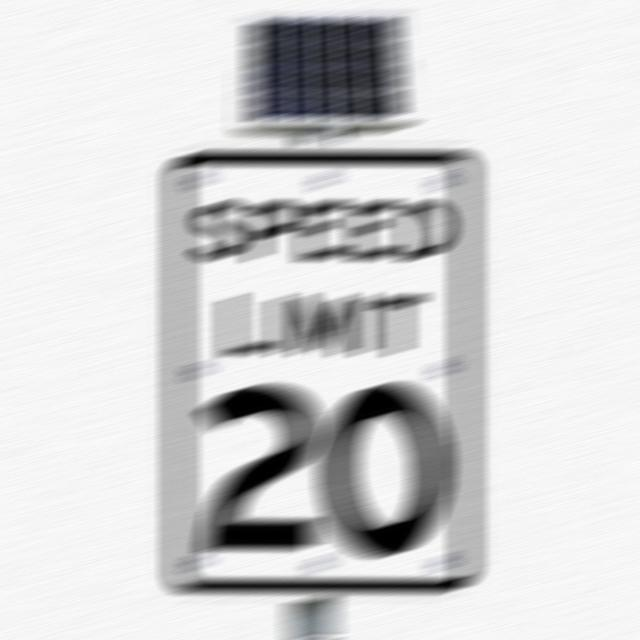speedLimit20: (166, 155, 489, 586)
